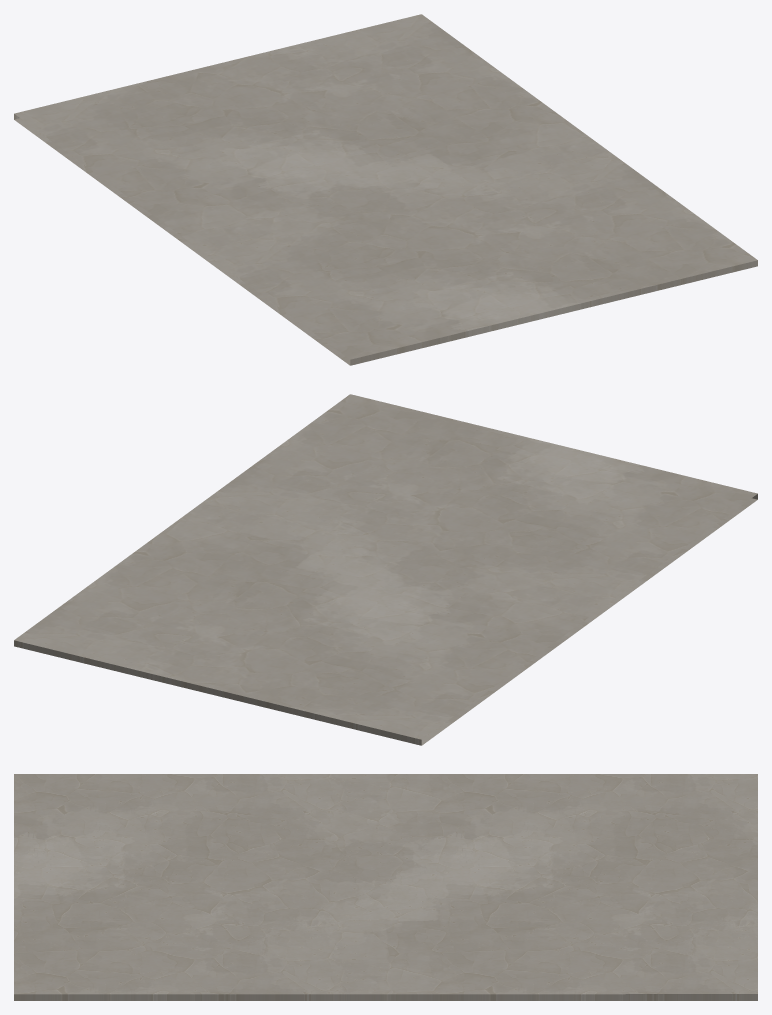
Rendered from floor_backstage.fbx.
The picture shows the model from 3 angles, top to bottom: view 1: azimuth 30°, elevation 25°; view 2: azimuth 150°, elevation 25°; view 3: azimuth 270°, elevation 25°; orthographic projection. The views are drawn at different scales.
Parts seen in each view (by area): view 1: floor_10x10m_001.002; view 2: floor_10x10m_001.002; view 3: floor_10x10m_001.002.
Boxes of the visible parts, <box> form: floor_10x10m_001.002: <box>14,14,757,365</box>; floor_10x10m_001.002: <box>14,394,757,745</box>; floor_10x10m_001.002: <box>14,774,757,1000</box>.
Size of the model in its own units: 700 by 10 by 1000.
